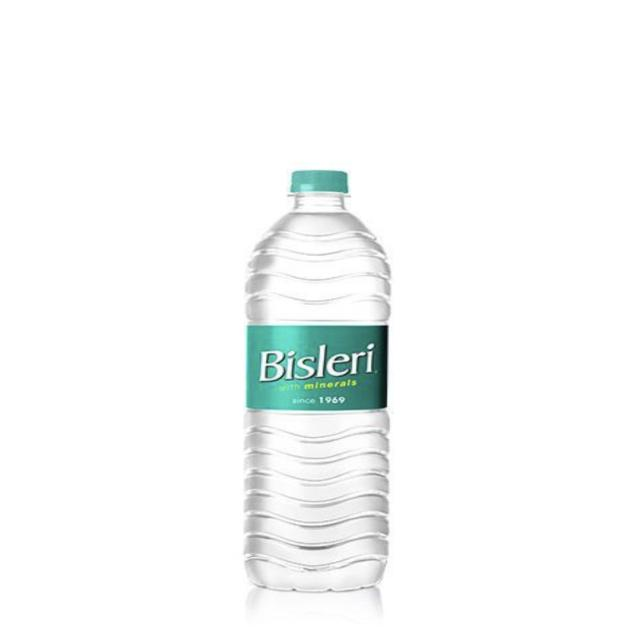recyclable: (156, 129, 470, 627)
